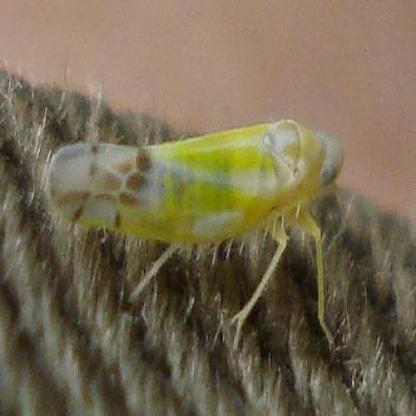green-leafhopper: (47, 115, 344, 252)
